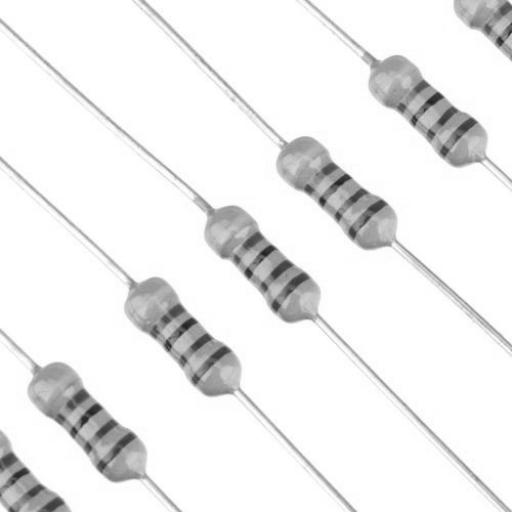RESISTOR: (142, 203, 382, 355), (310, 54, 509, 206), (256, 134, 425, 280), (101, 276, 240, 442), (20, 336, 144, 495)
